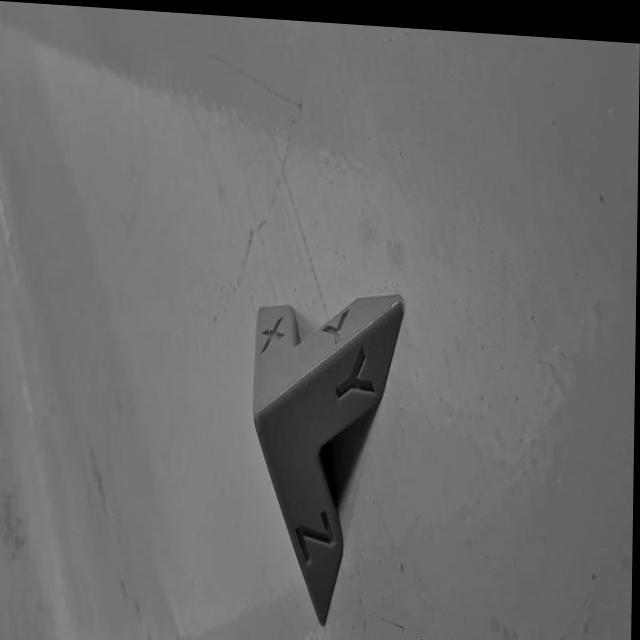eje: (244, 265, 411, 640)
